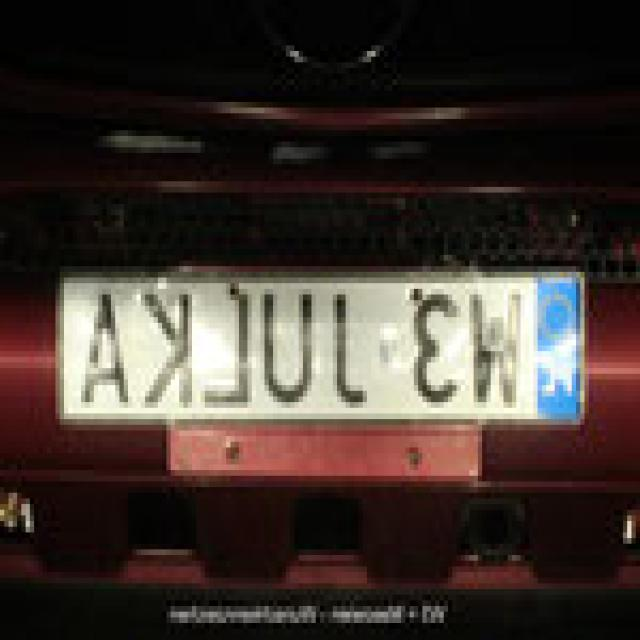pl_license_plate: (60, 266, 589, 414)
